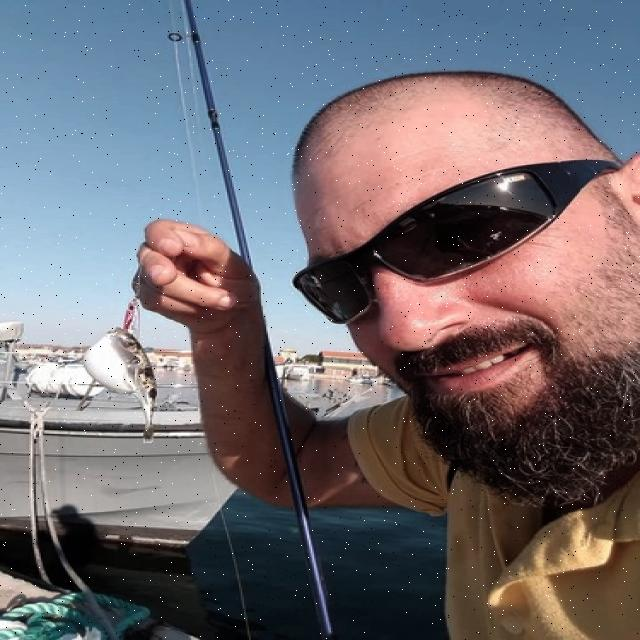Balik: (84, 328, 157, 441)
